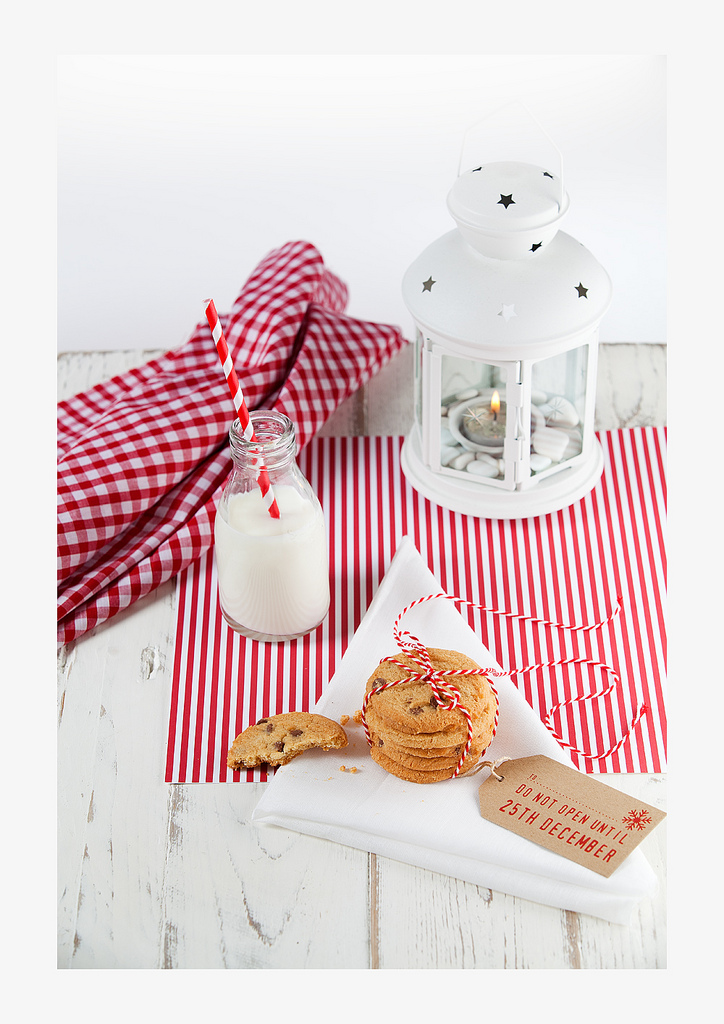glass of milk: (220, 433, 327, 637)
